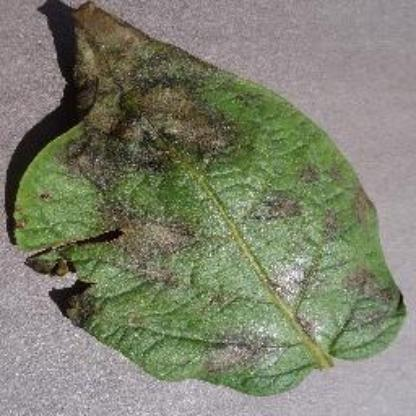Late-Blight: (8, 1, 412, 392)
